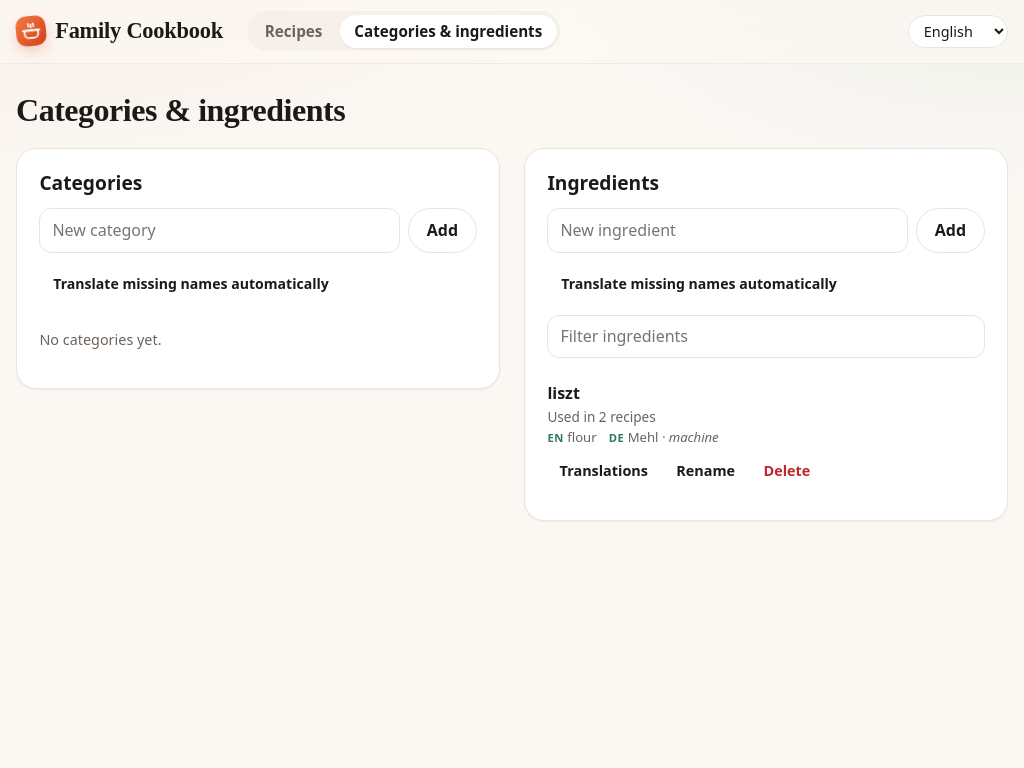
ingredient and category names in other languages › fills in missing names automatically for every language
Click the 2nd button "Translate missing names automatically": (699, 284) [547,267,851,300]
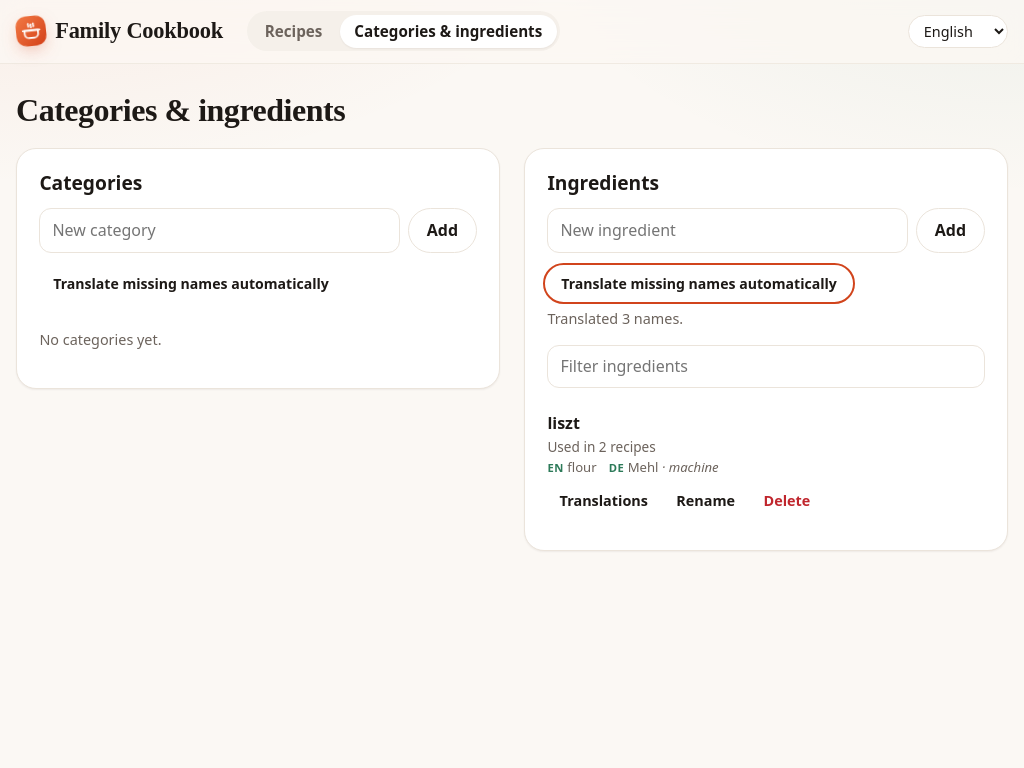
Expected: the text "Translated 3 names." is shown, [547,308,683,331]
